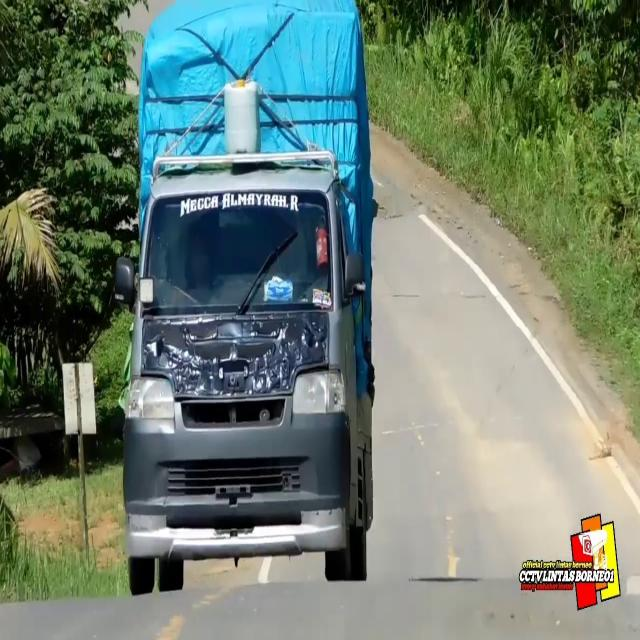Golongan IVB: (112, 155, 378, 596)
